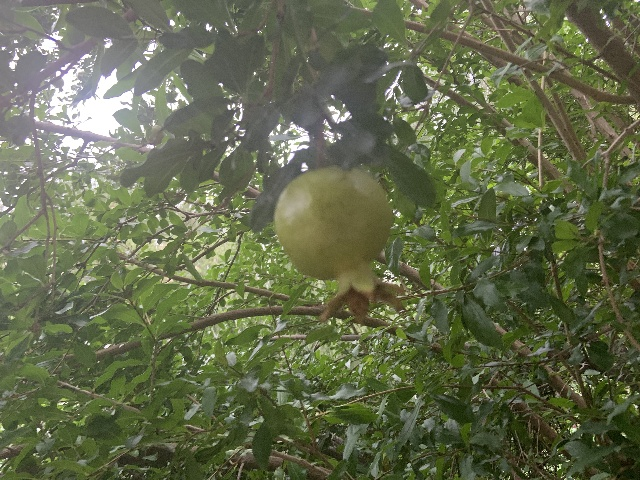mid-growth: (273, 166, 413, 324)
